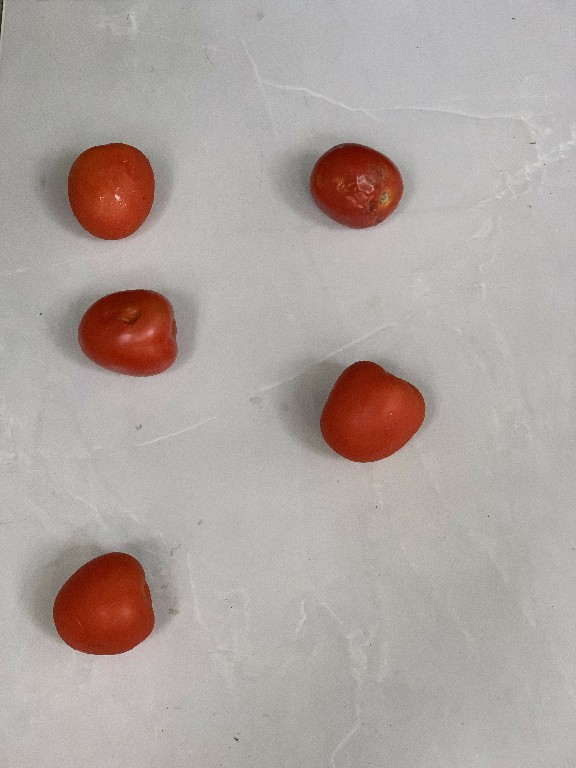NG: (300, 133, 409, 233), (74, 285, 184, 383)
OK: (45, 548, 162, 662), (316, 358, 426, 468), (62, 136, 156, 243)
